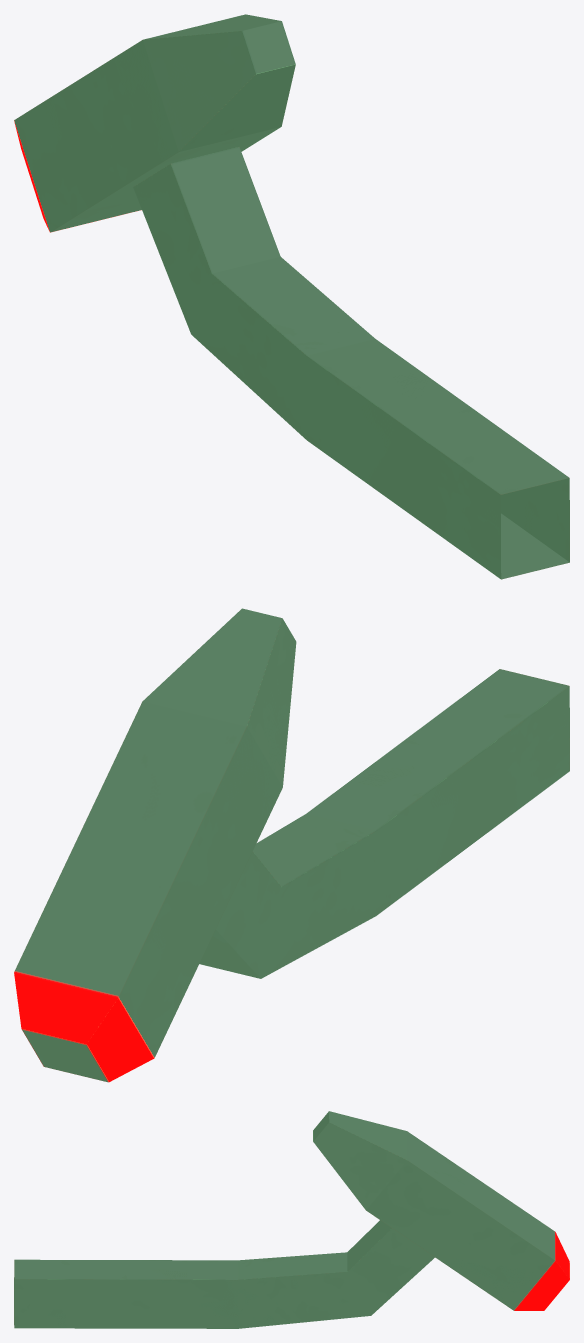
Rendered from camera.fbx.
3 renders of one model, top to bottom at view 1: azimuth 30°, elevation 25°; view 2: azimuth 150°, elevation 25°; view 3: azimuth 270°, elevation 25°, orthographic. The views are drawn at different scales.
Visible parts, largest first — view 1: camera; view 2: camera; view 3: camera.
Part boxes in pixels (x1=…): camera: x1=14, y1=14, x2=569, y2=579; camera: x1=14, y1=608, x2=569, y2=1082; camera: x1=14, y1=1111, x2=569, y2=1328.
Size of the model in its own units: 65.41 by 209 by 520.
